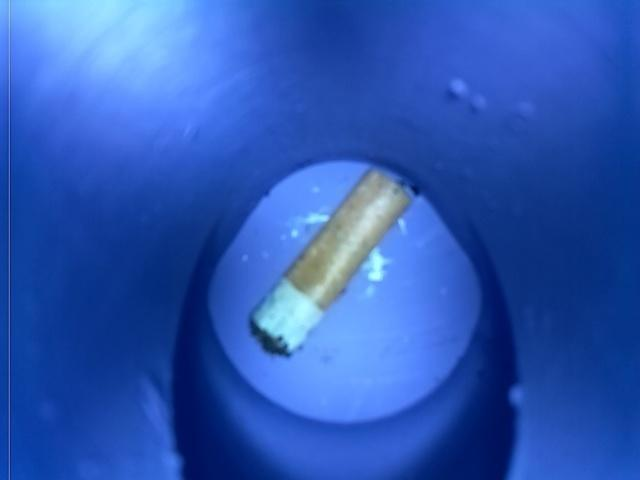megot: (241, 158, 430, 363)
